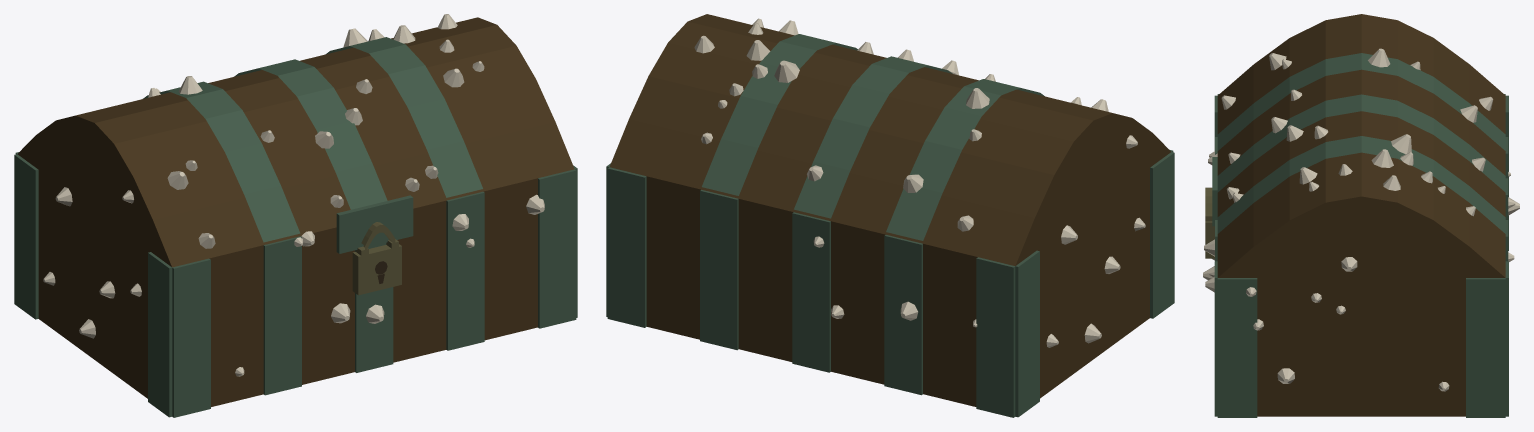
The model's file is grotto_chest.fbx.
3 renders of one model, left to right at view 1: azimuth 30°, elevation 25°; view 2: azimuth 150°, elevation 25°; view 3: azimuth 270°, elevation 25°, orthographic. The views are drawn at different scales.
Visible parts, largest first — view 1: Chest_Lid, Chest_Body, Band_2_Arch, Band_0_Arch, Band_1_Arch, Corner_FL_Y, Band_0_Front, Corner_FR_Y, Band_2_Front, Corner_BL_X, Corner_FL_X, Lock_Hasp (+2 smaller); view 2: Chest_Lid, Chest_Body, Band_1_Arch, Band_2_Arch, Band_0_Arch, Corner_BR_Y, Corner_BL_Y, Band_2_Back, Band_1_Back, Band_0_Back, Corner_BL_X, Corner_FL_X; view 3: Chest_Lid, Chest_Body, Corner_FR_X, Corner_BR_X, Band_1_Arch, Band_2_Arch, Band_0_Arch, Corner_BR_Y, Corner_FR_Y, Lock_Hasp, Barnacle_002.
Part boxes in pixels (box(x1,y1,x2,y2)): Chest_Lid: box(17, 17, 574, 267); Chest_Body: box(38, 170, 537, 406); Band_2_Arch: box(325, 37, 482, 197); Band_0_Arch: box(143, 81, 300, 242); Band_1_Arch: box(234, 59, 387, 209); Corner_FL_Y: box(172, 258, 210, 417); Band_0_Front: box(263, 236, 301, 395); Corner_FR_Y: box(538, 169, 576, 328); Band_2_Front: box(446, 191, 484, 350); Corner_BL_X: box(14, 154, 38, 319); Corner_FL_X: box(148, 252, 172, 417); Lock_Hasp: box(336, 195, 413, 253); Chest_Lid: box(609, 14, 1170, 265); Chest_Body: box(646, 168, 1149, 406); Band_1_Arch: box(794, 56, 952, 218); Band_2_Arch: box(702, 34, 857, 195); Band_0_Arch: box(886, 79, 1044, 240); Corner_BR_Y: box(607, 167, 646, 327); Corner_BL_Y: box(976, 257, 1015, 417); Band_2_Back: box(700, 189, 738, 350); Band_1_Back: box(792, 212, 830, 372); Band_0_Back: box(884, 235, 922, 395); Corner_BL_X: box(1015, 250, 1039, 417); Corner_FL_X: box(1150, 152, 1174, 318); Chest_Lid: box(1217, 14, 1505, 277); Chest_Body: box(1257, 278, 1465, 416); Corner_FR_X: box(1217, 278, 1257, 417); Corner_BR_X: box(1466, 278, 1505, 417); Band_1_Arch: box(1217, 94, 1505, 192); Band_2_Arch: box(1217, 136, 1505, 233); Band_0_Arch: box(1217, 53, 1505, 150); Corner_BR_Y: box(1505, 261, 1508, 416); Corner_FR_Y: box(1214, 261, 1217, 416); Lock_Hasp: box(1212, 157, 1217, 226); Barnacle_002: box(1391, 134, 1411, 154).
Size of the model in its own units: 1040 by 587 by 725.
